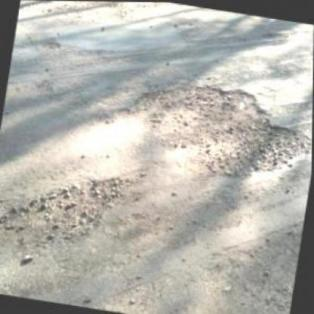Hueco: (116, 68, 312, 192)
